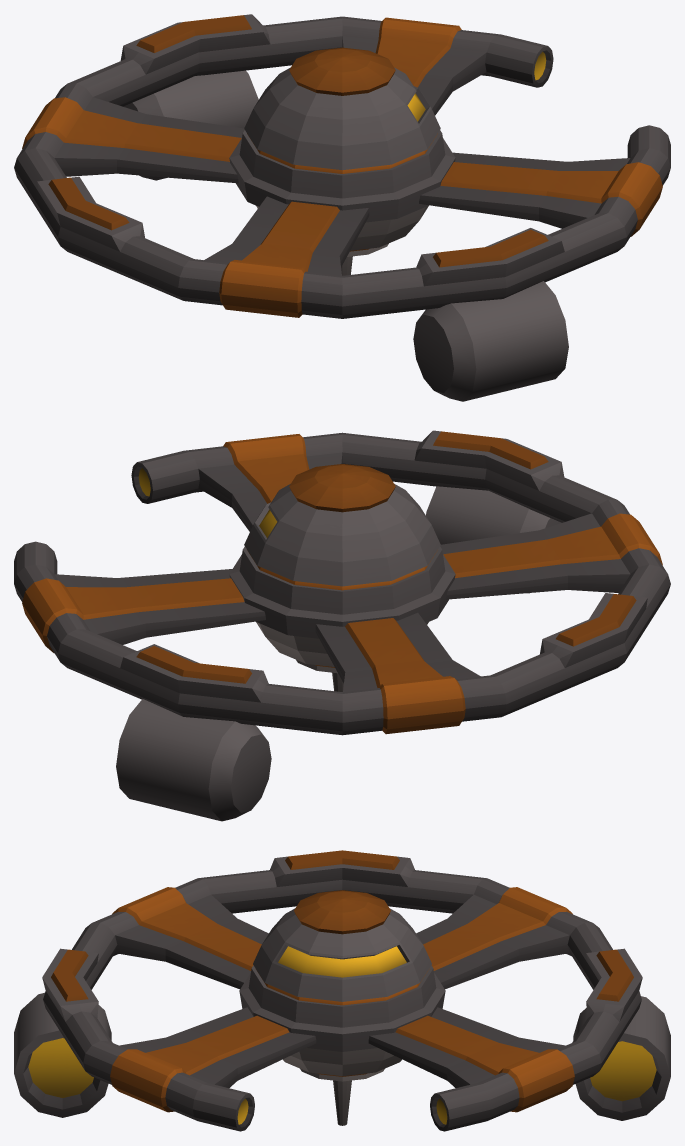
The model's file is Space_Station_1.fbx.
3 renders of one model, top to bottom at view 1: azimuth 30°, elevation 25°; view 2: azimuth 150°, elevation 25°; view 3: azimuth 270°, elevation 25°, orthographic. The views are drawn at different scales.
Visible parts, largest first — view 1: Space_Station_1; view 2: Space_Station_1; view 3: Space_Station_1.
Boxes of the visible parts, <box> form: Space_Station_1: <box>14,14,670,401</box>; Space_Station_1: <box>14,430,670,821</box>; Space_Station_1: <box>14,850,670,1131</box>.
Size of the model in its own units: 1007 by 429 by 1132.
1 material, 1 textured.
